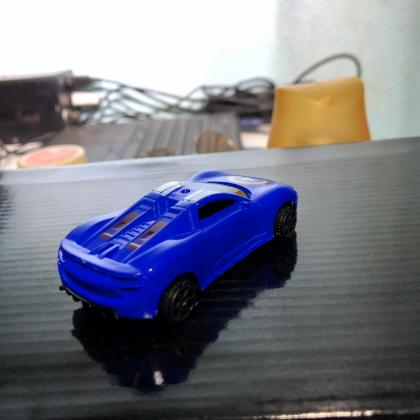Car: (57, 173, 297, 326)
